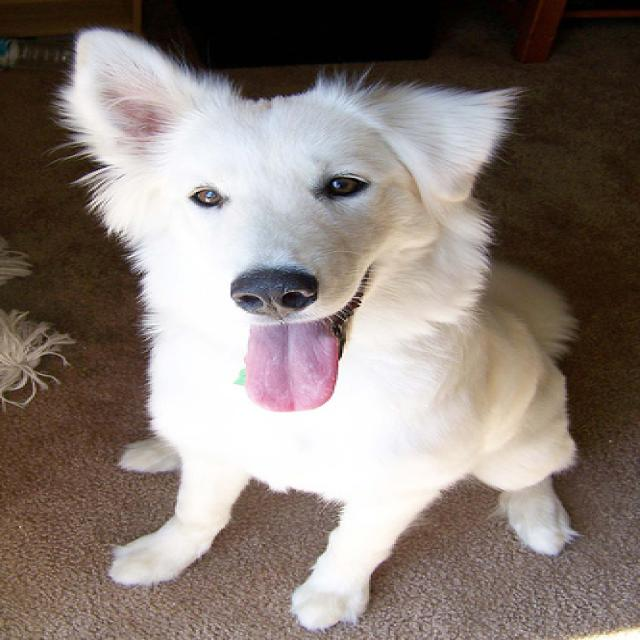dog-samoyed: (56, 27, 588, 632)
